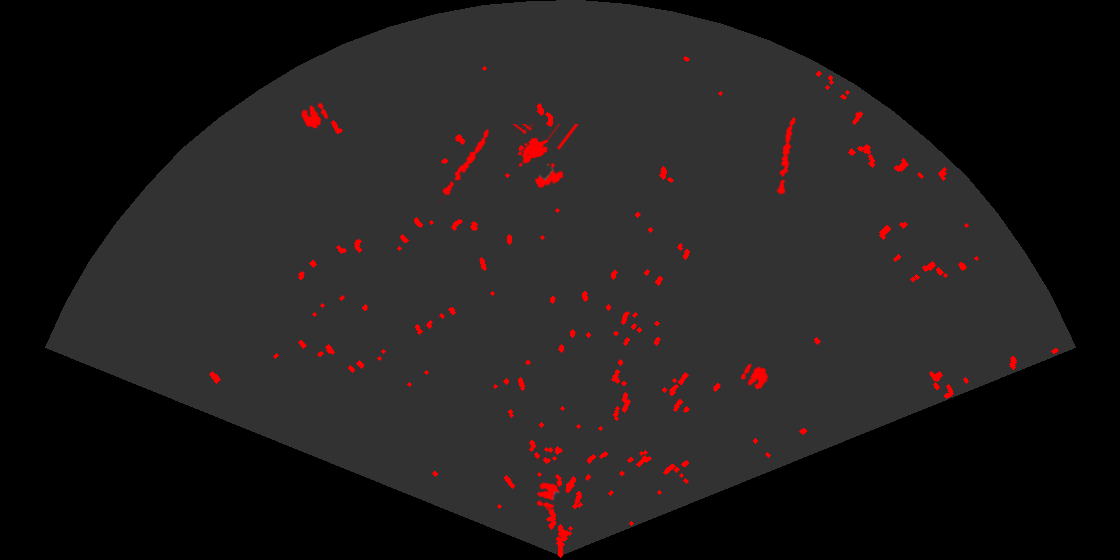ball: (299, 101, 330, 130), (739, 362, 770, 391), (535, 481, 561, 510)
cage: (511, 124, 581, 190)
chain: (435, 127, 491, 205), (775, 115, 797, 195)
